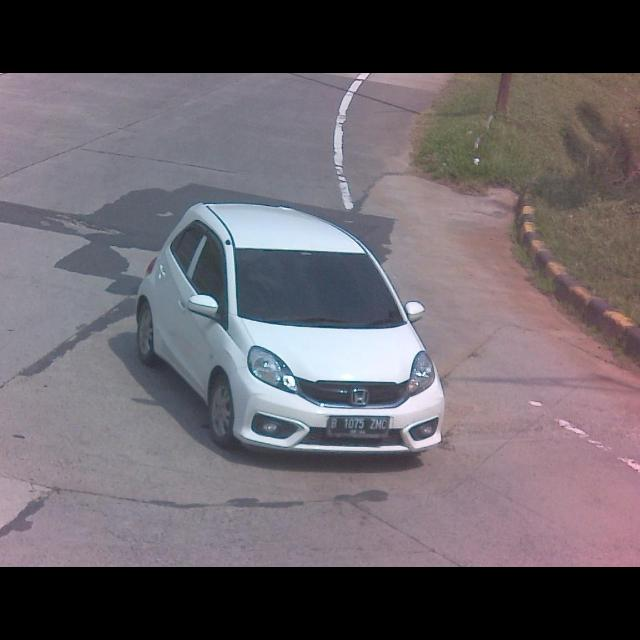plate: (329, 416, 391, 438)
